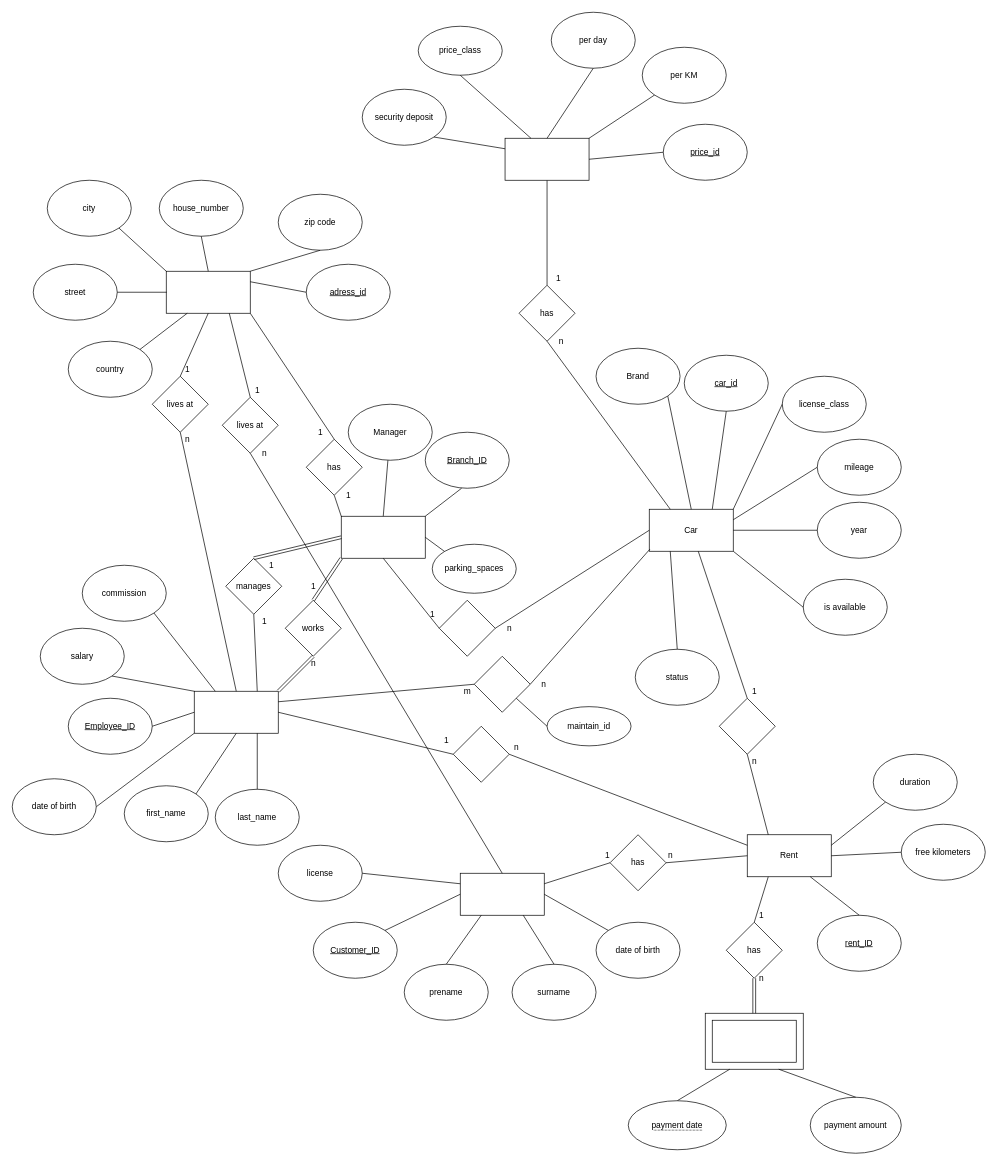
This 998x1166 diagram has some shape labels left out. Here are the shapes that lost their labels. From the top down, the centre of each, then its label:
At (546,159): "price".
At (208,292): "Address".
At (383,537): "Branch".
At (467,628): "is parked".
At (502,684): "maintains".
At (236,712): "Employee".
At (747,726): "is".
At (481,754): "issues".
At (502,894): "Customer".
At (754,1041): "payment".
